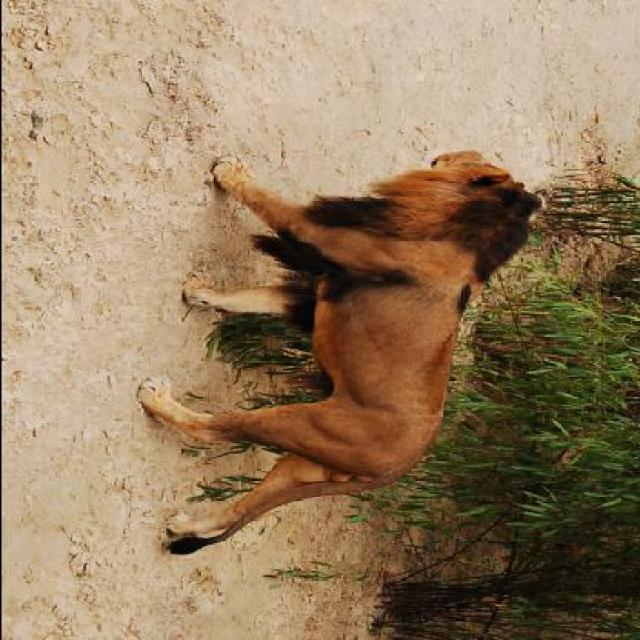Lion: (125, 138, 549, 570)
